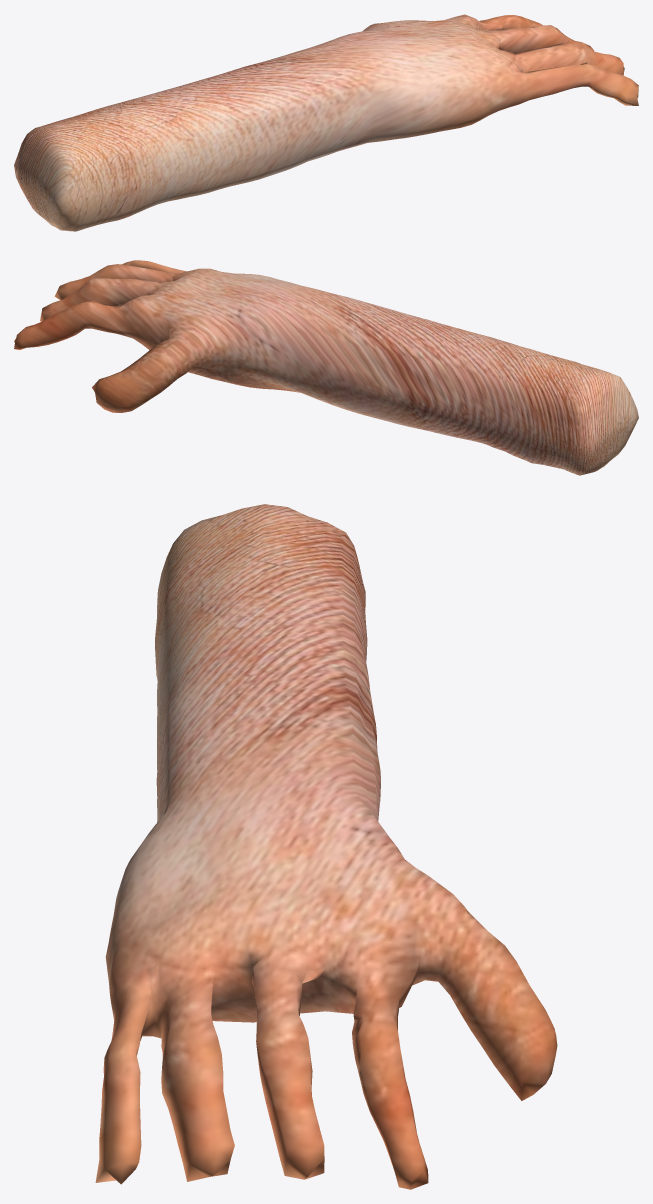
Rendered from geo_Hhånd_åben.glb.
3 views of the same model, one above another, from view 1: azimuth 30°, elevation 25°; view 2: azimuth 150°, elevation 25°; view 3: azimuth 270°, elevation 25° (orthographic). The views are drawn at different scales.
Parts seen in each view (by area): view 1: geo_Hhånd_åben; view 2: geo_Hhånd_åben; view 3: geo_Hhånd_åben.
Part boxes in pixels (left/top/right/bottom): geo_Hhånd_åben: left=14, top=14, right=638, bottom=231; geo_Hhånd_åben: left=14, top=260, right=638, bottom=475; geo_Hhånd_åben: left=95, top=504, right=557, bottom=1189.
Size of the model in its own units: 4.13 by 0.6941 by 1.44.
1 material, 1 textured.
